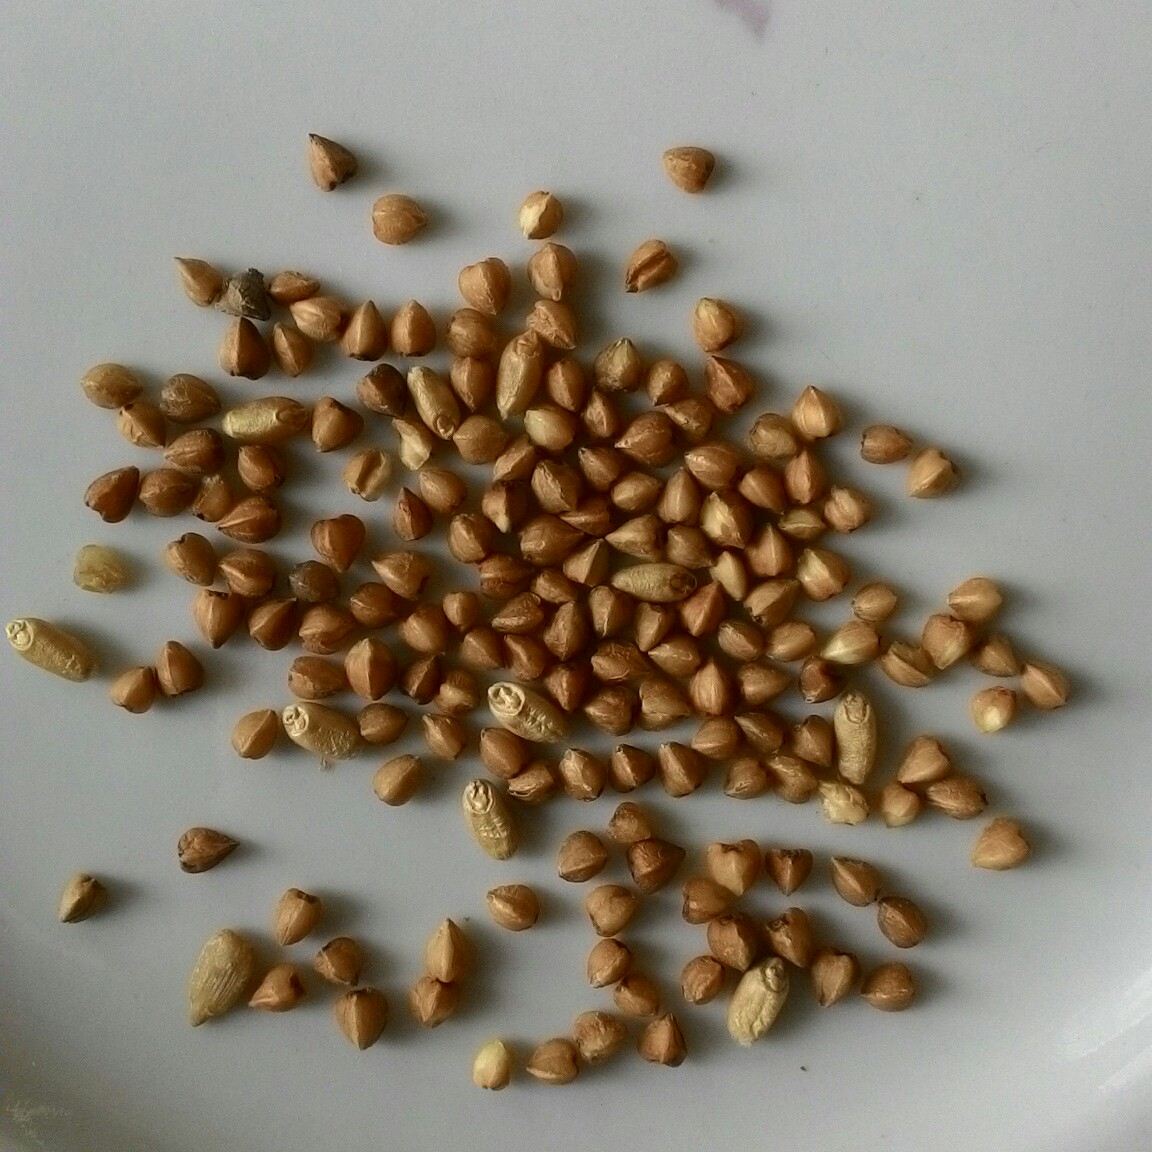semka: (178, 916, 268, 1036)
wheat: (718, 943, 806, 1058), (1, 600, 104, 691), (471, 672, 578, 751), (449, 768, 532, 869), (274, 691, 381, 768), (822, 677, 888, 792), (488, 315, 551, 438), (208, 386, 318, 455), (397, 356, 474, 449), (597, 551, 707, 614)
